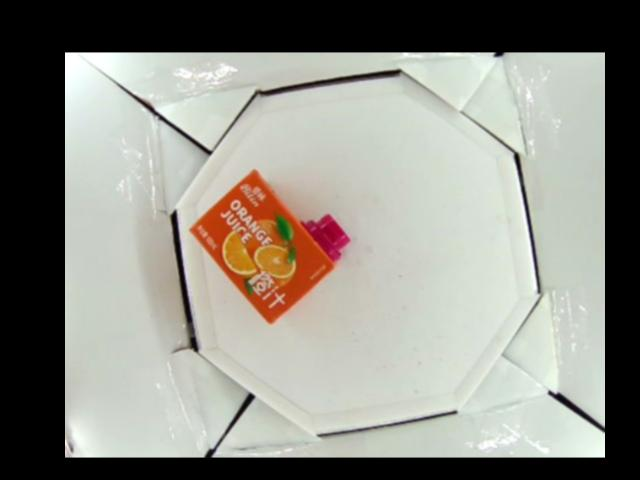Bottle: (187, 167, 351, 327)
